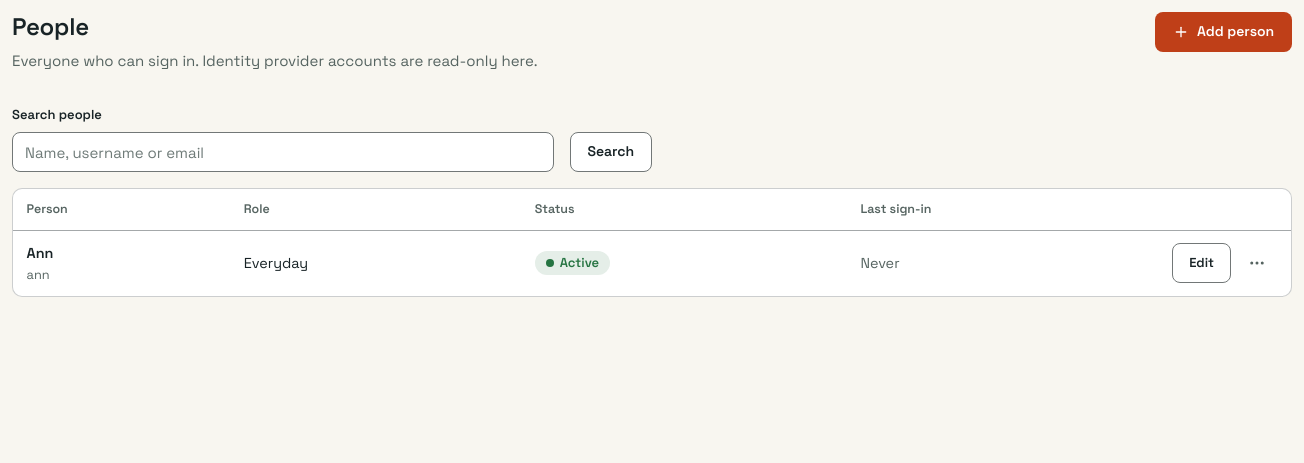
Test: People › keeps one Edit per row, the rest in its menu, with Role in its own column
Click the button named "More actions for ann". click: [1257, 264]
box: x1=1237 y1=244 x2=1277 y2=284
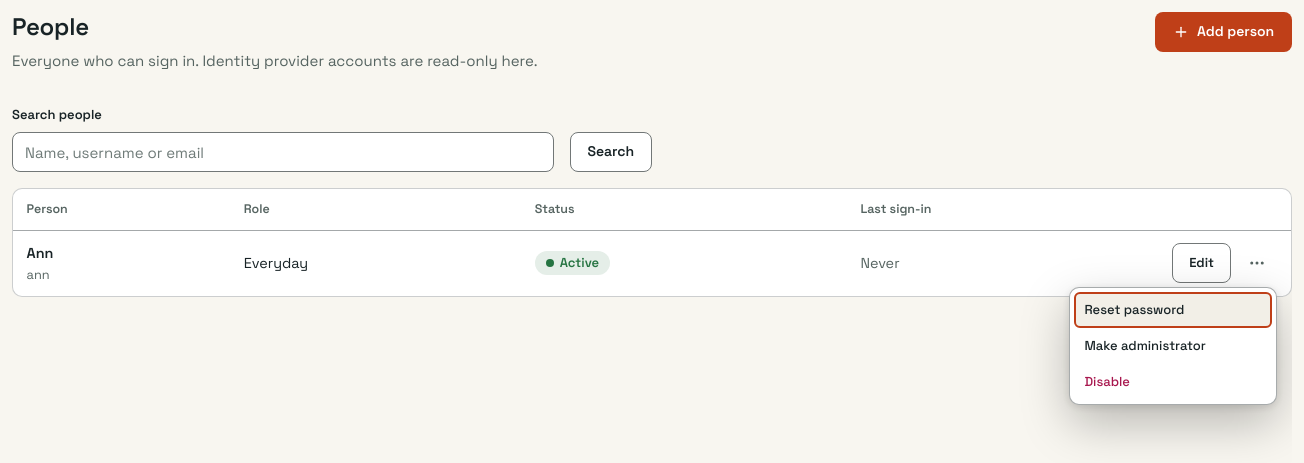
Expected: the column headings read "Person", "Role", "Status", "Last sign-in", "Actions", in this order, x1=13 y1=189 x2=230 y2=231; x1=230 y1=189 x2=521 y2=231; x1=521 y1=189 x2=847 y2=231; x1=847 y1=189 x2=1159 y2=231; x1=1158 y1=189 x2=1291 y2=231
Expected: the menu items read "Reset password", "Make administrator", "Disable", in this order, x1=1074 y1=292 x2=1272 y2=328; x1=1074 y1=328 x2=1272 y2=364; x1=1074 y1=364 x2=1272 y2=400
